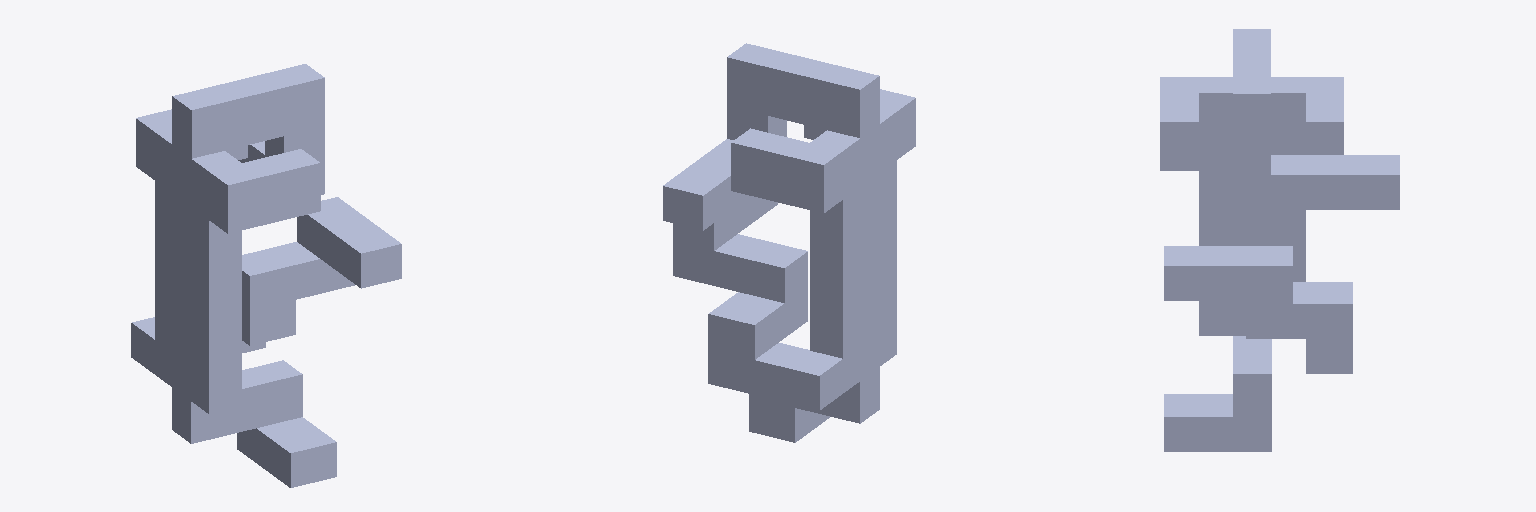
3 renders of one model, left to right at view 1: azimuth 30°, elevation 25°; view 2: azimuth 150°, elevation 25°; view 3: azimuth 270°, elevation 25°, orthographic.
Visible parts, largest first — view 1: mesh_1_Thick-4.000; view 2: mesh_1_Thick-4.000; view 3: mesh_1_Thick-4.000.
Part boxes in pixels (left/top/right/bottom): mesh_1_Thick-4.000: left=131, top=64, right=401, bottom=487; mesh_1_Thick-4.000: left=663, top=43, right=915, bottom=442; mesh_1_Thick-4.000: left=1160, top=29, right=1399, bottom=451.
Size of the model in its own units: 0.095 by 0.19 by 0.1119.